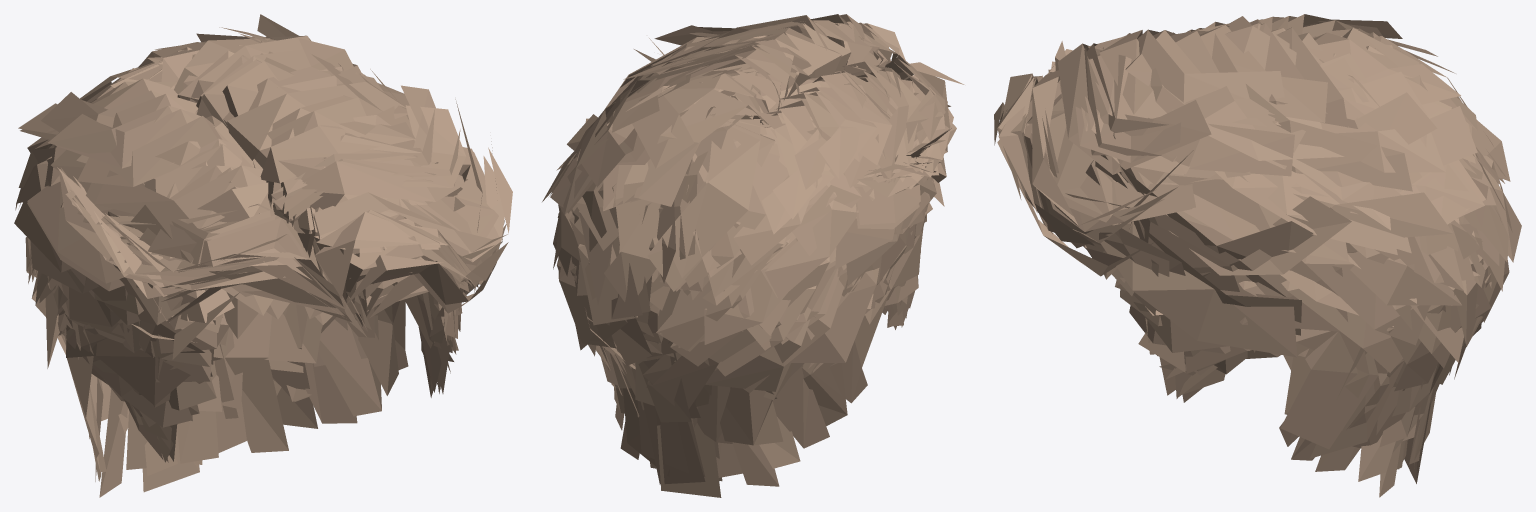
The model's file is male_hair_12_lod1.glb.
The picture shows the model from 3 angles, left to right: view 1: azimuth 30°, elevation 25°; view 2: azimuth 150°, elevation 25°; view 3: azimuth 270°, elevation 25°; orthographic projection. The views are drawn at different scales.
Parts seen in each view (by area): view 1: hair_12; view 2: hair_12; view 3: hair_12.
Part boxes in pixels (x1,y1,x2,y2): hair_12: (14,14,512,497); hair_12: (542,14,964,497); hair_12: (994,14,1521,497).
Size of the model in its own units: 0.1751 by 0.2159 by 0.2299.
